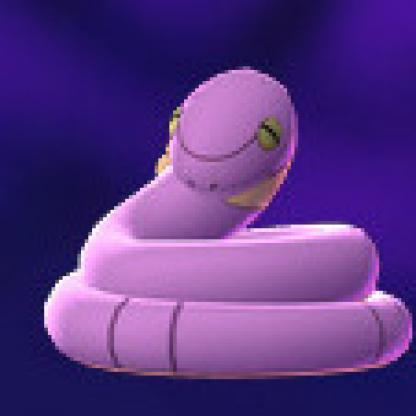Ekans: (43, 51, 416, 383)
